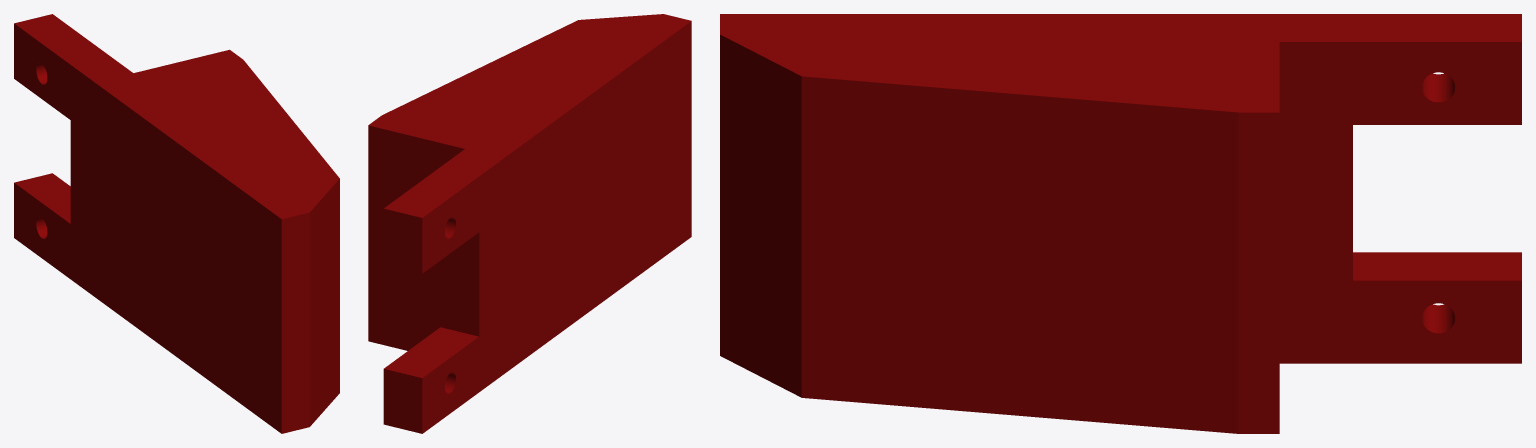
File: finger.dae
The picture shows the model from 3 angles, left to right: view 1: azimuth 30°, elevation 25°; view 2: azimuth 150°, elevation 25°; view 3: azimuth 270°, elevation 25°; orthographic projection. The views are drawn at different scales.
Parts seen in each view (by area): view 1: WidowXL v7; view 2: WidowXL v7; view 3: WidowXL v7.
Part boxes in pixels (<box>): WidowXL v7: <box>14,14,339,433</box>; WidowXL v7: <box>368,14,691,433</box>; WidowXL v7: <box>720,14,1521,433</box>.
Bounding box in the file's own units: 0.014 × 0.0481 × 0.0213.
